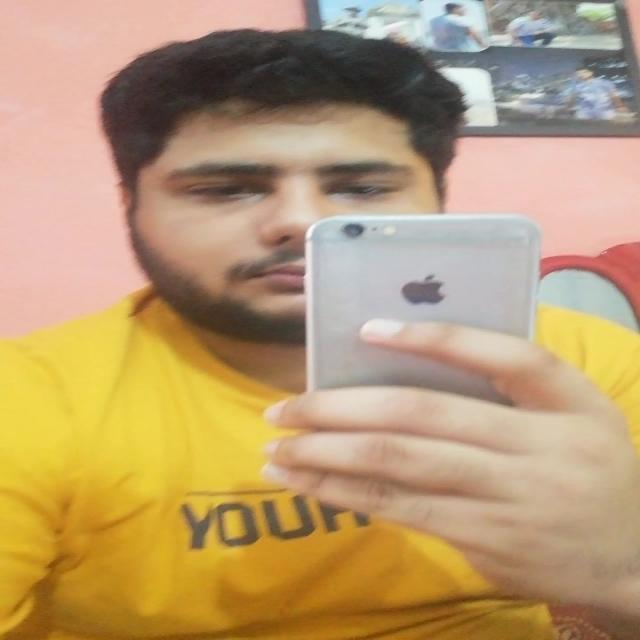Phone: (302, 214, 544, 392)
